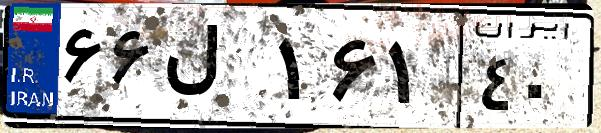0: (525, 38, 570, 115)
1: (270, 28, 330, 110), (385, 28, 445, 110)
4: (475, 38, 525, 113)
6: (330, 28, 385, 110), (57, 26, 110, 100), (110, 28, 158, 98)
ل: (158, 20, 270, 120)
